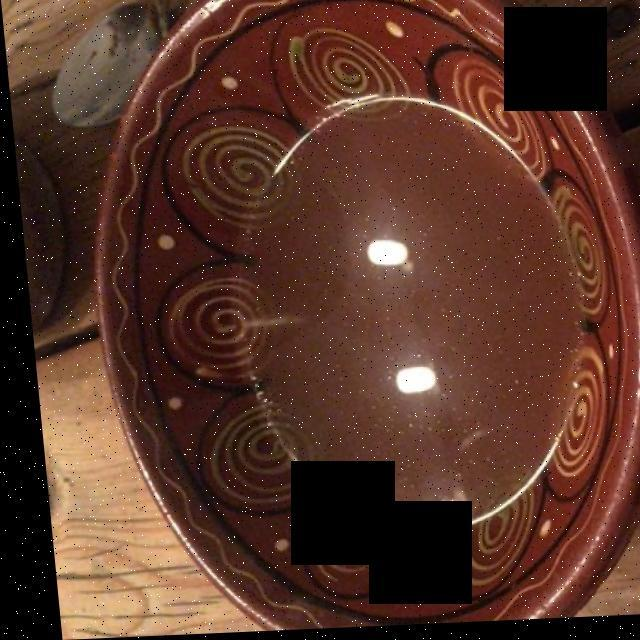bouillon: (235, 102, 573, 527)
